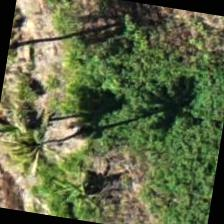Kelapa_Sawit: (0, 94, 84, 197)
